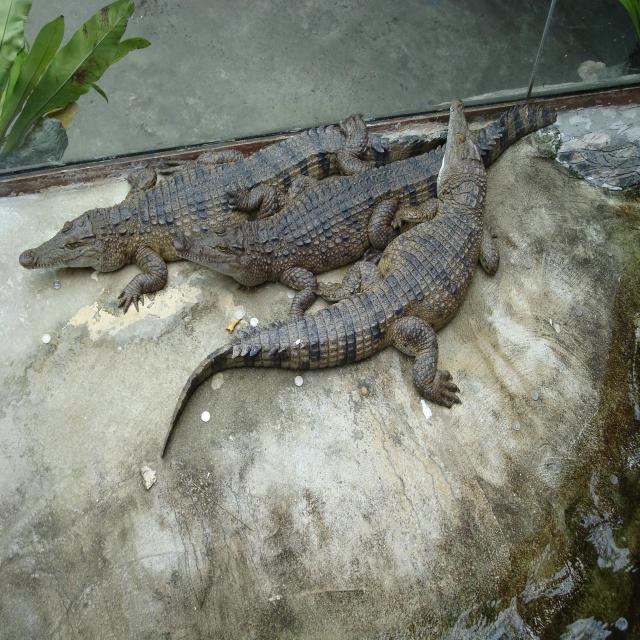crocodile: (0, 66, 583, 500)
